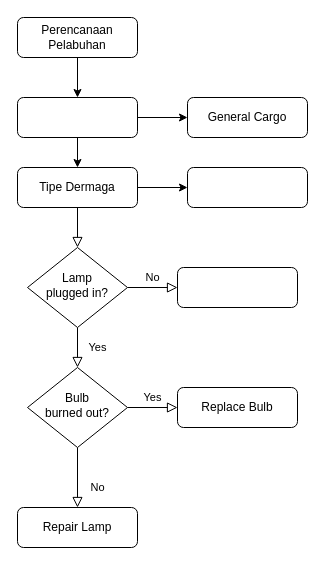
Some shapes in this 325 by 565 pixel diagram are drawn without their labels. The centre of each missing label's shape, as x and y in pixels:
Fungsi Dermaga: the point at 77,117
Open Wharf Type: the point at 247,187
Plug in lamp: the point at 237,287
